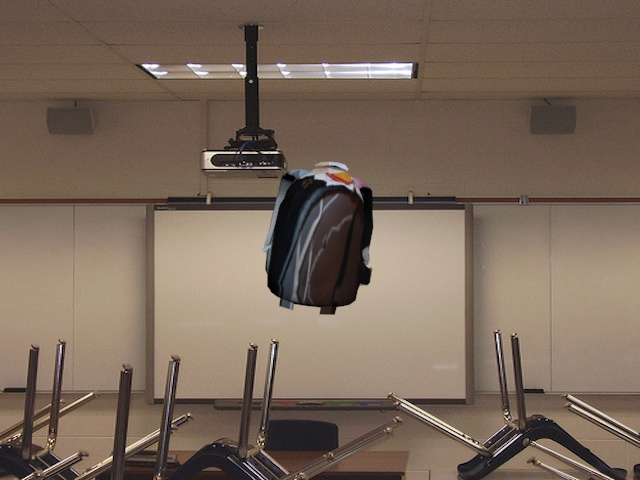back_pack: (257, 160, 376, 321)
